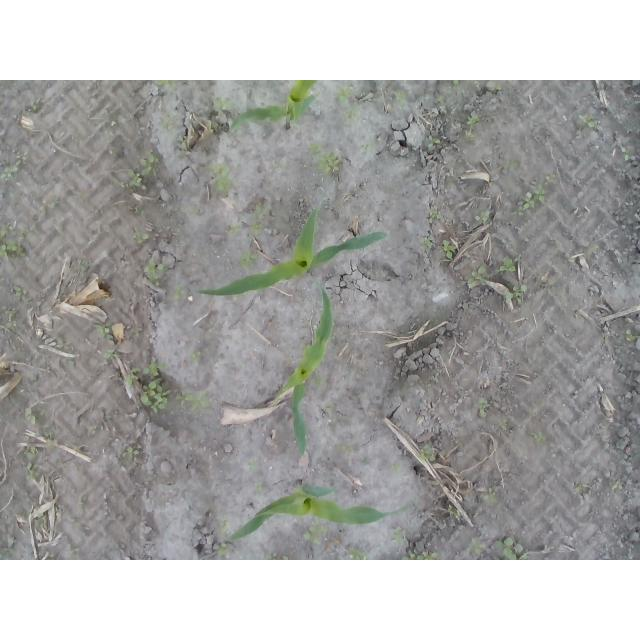Maize: (197, 208, 389, 298), (227, 478, 409, 542), (280, 284, 336, 456), (229, 80, 319, 134)
Weeds: (126, 362, 171, 414), (111, 146, 161, 190), (512, 174, 555, 218), (336, 80, 362, 126), (307, 141, 342, 175), (207, 159, 236, 193), (15, 447, 41, 482), (495, 536, 529, 561), (143, 257, 170, 287), (384, 80, 409, 112), (174, 390, 210, 411), (303, 520, 329, 545), (467, 264, 490, 289), (0, 240, 26, 261), (248, 206, 266, 235), (0, 302, 16, 334), (504, 284, 528, 305), (22, 407, 50, 425), (398, 548, 438, 560), (464, 537, 488, 555), (173, 283, 190, 306), (496, 255, 516, 274), (94, 322, 115, 340), (157, 111, 176, 130), (132, 224, 150, 244), (15, 287, 34, 305), (347, 546, 369, 560), (309, 368, 327, 385), (392, 526, 409, 544), (214, 97, 234, 112), (322, 400, 337, 420), (473, 208, 490, 225), (620, 145, 637, 162), (0, 166, 18, 182), (0, 537, 16, 555), (121, 447, 140, 461), (419, 443, 433, 462), (442, 241, 456, 260), (153, 81, 177, 92), (425, 207, 441, 223), (224, 224, 240, 240), (480, 488, 496, 504), (466, 111, 481, 128), (240, 254, 257, 269), (497, 159, 520, 170), (415, 235, 433, 249), (478, 397, 490, 418), (0, 222, 14, 240), (578, 113, 594, 128), (216, 545, 232, 560), (176, 135, 189, 153), (623, 329, 639, 343), (497, 417, 512, 431), (69, 544, 81, 560), (434, 94, 447, 108), (335, 443, 353, 453), (16, 151, 28, 166), (130, 326, 145, 338), (360, 143, 377, 153), (448, 504, 460, 518), (426, 135, 441, 146), (35, 512, 45, 528), (464, 130, 477, 142), (533, 432, 545, 445), (31, 98, 41, 113), (102, 351, 115, 362), (128, 208, 145, 216), (247, 460, 258, 472), (80, 263, 93, 273), (612, 480, 625, 490), (222, 518, 230, 534), (56, 335, 65, 349), (49, 198, 60, 209), (263, 552, 277, 560), (206, 120, 214, 133), (592, 244, 601, 255), (451, 80, 461, 89), (574, 483, 583, 493), (48, 431, 57, 441), (391, 464, 401, 473), (20, 511, 32, 518), (192, 350, 201, 359), (254, 484, 263, 493), (87, 425, 97, 433), (276, 279, 288, 285), (362, 457, 370, 466), (46, 553, 56, 560), (191, 207, 199, 215), (282, 383, 290, 391), (494, 83, 503, 90), (446, 88, 452, 96)
